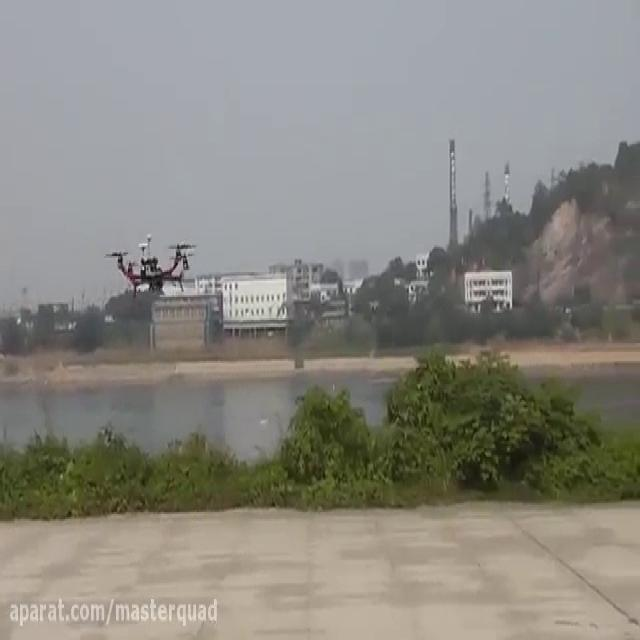drone: (101, 228, 199, 306)
